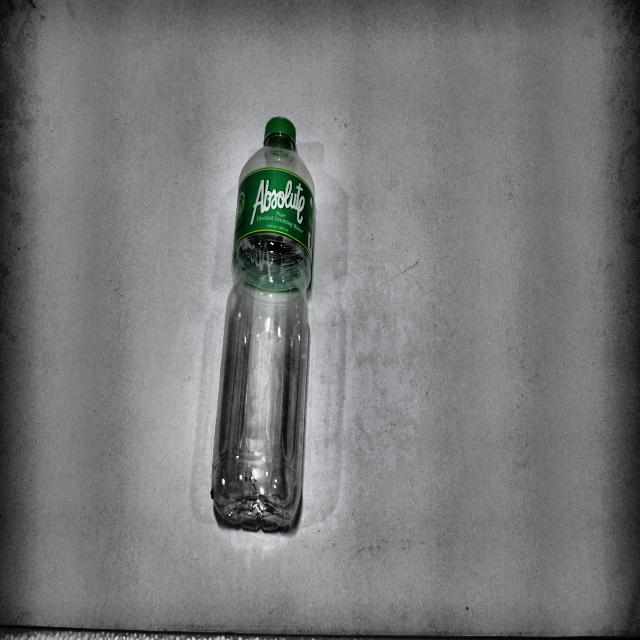Bottles: (207, 110, 320, 539)
